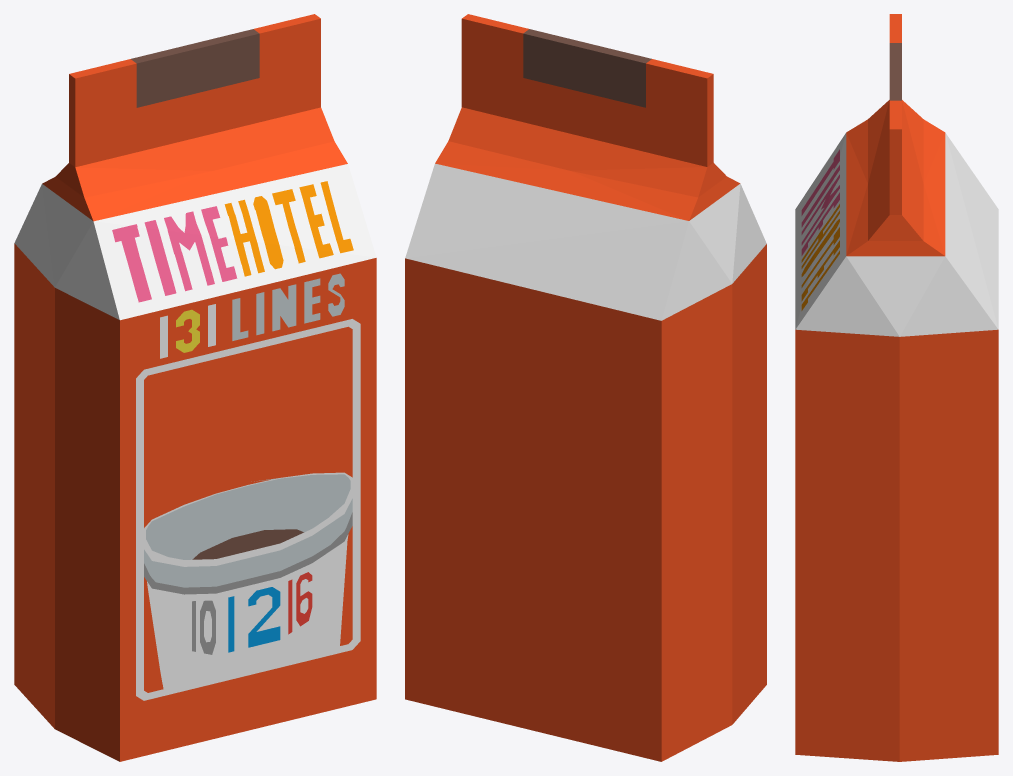
Rendered from Coffee Beans Bag.obj.
3 views of the same model, side by side, from view 1: azimuth 30°, elevation 25°; view 2: azimuth 150°, elevation 25°; view 3: azimuth 270°, elevation 25° (orthographic). The views are drawn at different scales.
Visible parts, largest first — view 1: group317999159; view 2: group317999159; view 3: group317999159.
Boxes of the visible parts, x1,y1,x2,y2 form: group317999159: (14,14,376,761); group317999159: (405,14,766,761); group317999159: (795,14,998,761).
Bounding box in the file's own units: 0.9028 × 1.94 × 0.5744.
